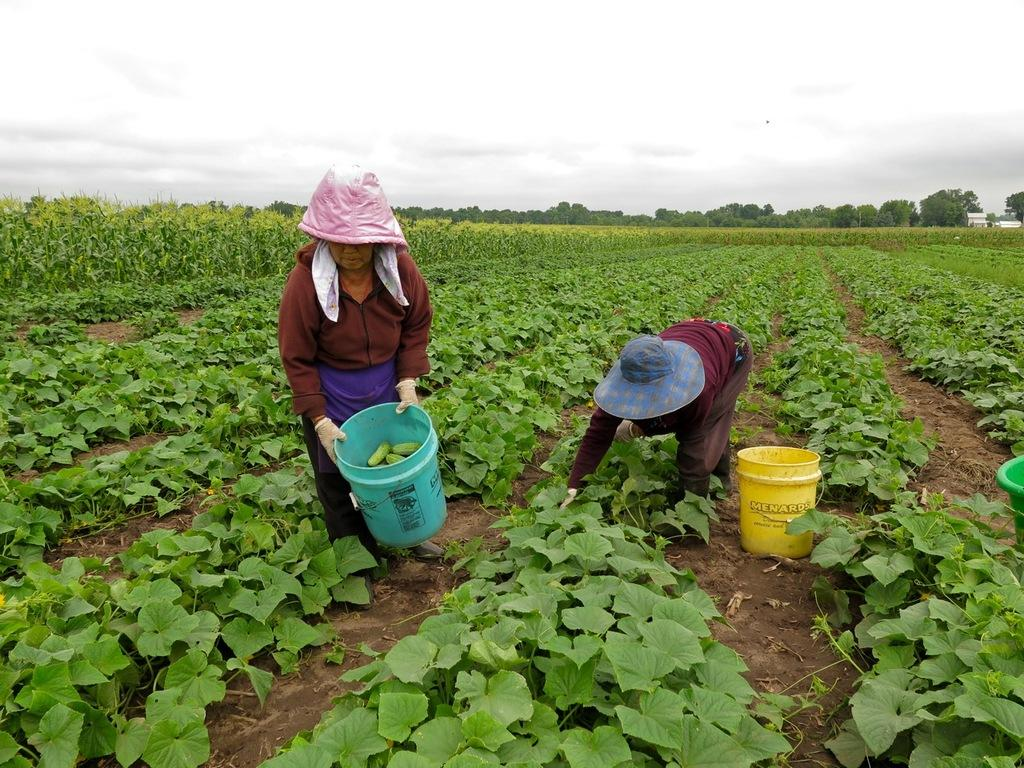Hat: (590, 333, 706, 421)
